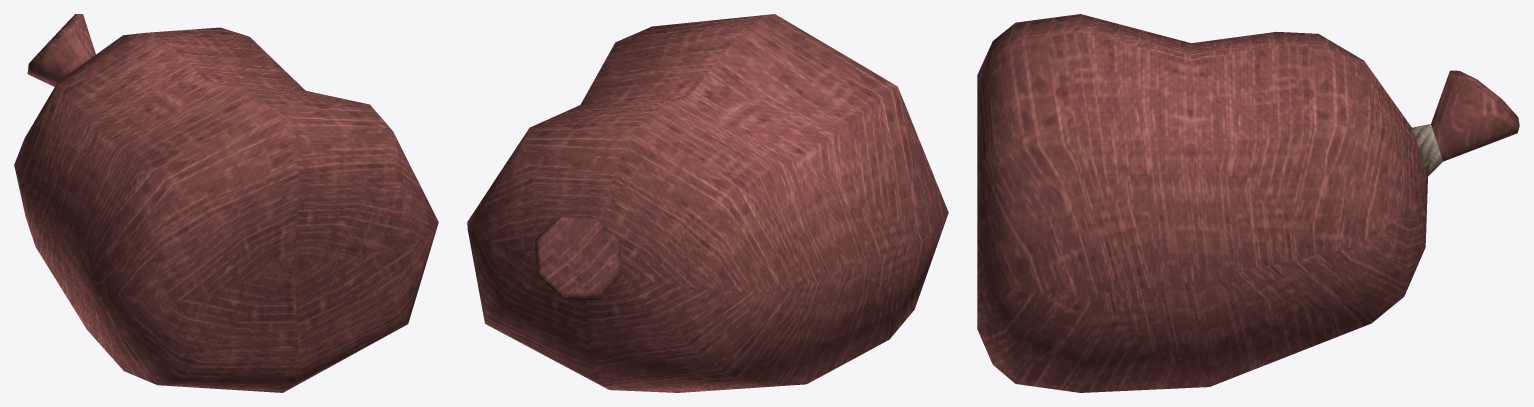
The model's file is Bag_Closed_C.fbx.
3 views of the same model, side by side, from view 1: azimuth 30°, elevation 25°; view 2: azimuth 150°, elevation 25°; view 3: azimuth 270°, elevation 25° (orthographic). The views are drawn at different scales.
Visible parts, largest first — view 1: Bag_Closed_C; view 2: Bag_Closed_C; view 3: Bag_Closed_C.
Boxes of the visible parts, x1=… form: Bag_Closed_C: x1=14, y1=14, x2=438, y2=392; Bag_Closed_C: x1=467, y1=14, x2=948, y2=392; Bag_Closed_C: x1=977, y1=14, x2=1519, y2=392.
Size of the model in its own units: 1.02 by 0.8628 by 1.27.
